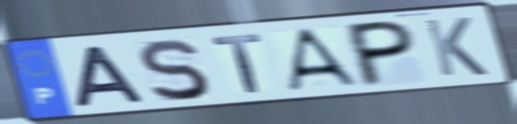A: (285, 26, 365, 94), (72, 43, 150, 110)
K: (420, 15, 492, 79)
P: (346, 18, 417, 90)
S: (135, 36, 213, 104)
T: (208, 31, 265, 95)
